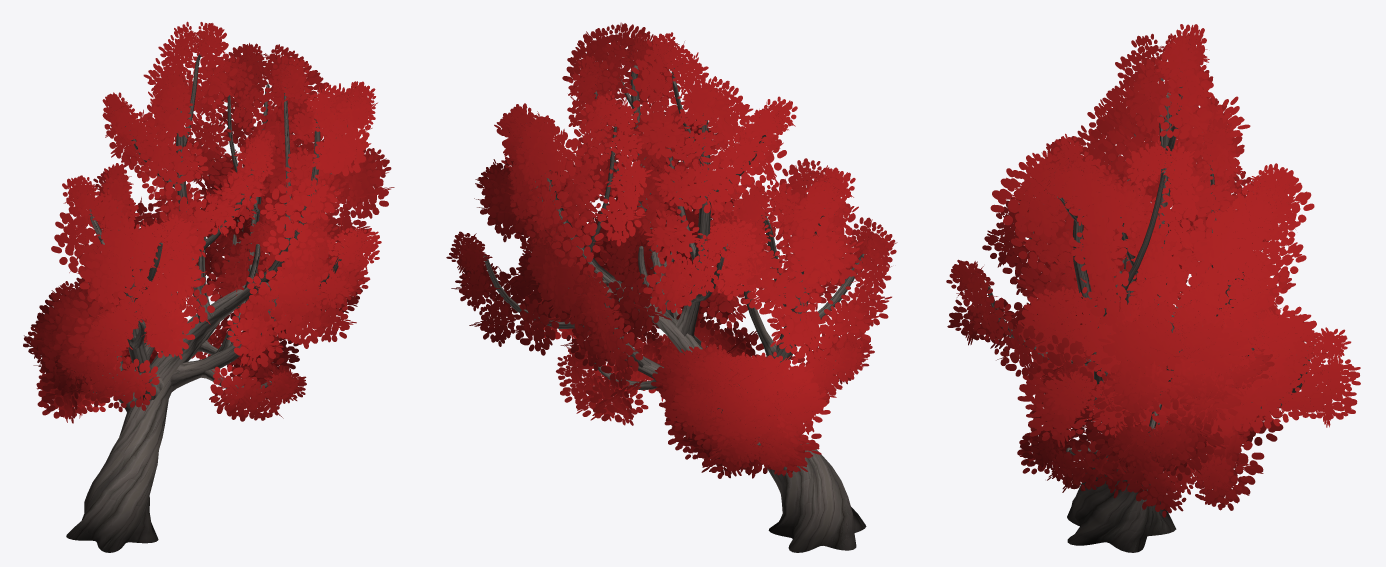
The model's file is twistedtree-1.glb.
The picture shows the model from 3 angles, left to right: view 1: azimuth 30°, elevation 25°; view 2: azimuth 150°, elevation 25°; view 3: azimuth 270°, elevation 25°; orthographic projection. The views are drawn at different scales.
Parts seen in each view (by area): view 1: TwistedTree_1; view 2: TwistedTree_1; view 3: TwistedTree_1.
Boxes of the visible parts, bbox=[...] form: TwistedTree_1: bbox=[23, 21, 394, 552]; TwistedTree_1: bbox=[446, 22, 897, 552]; TwistedTree_1: bbox=[946, 24, 1360, 552].
Size of the model in its own units: 13.52 by 16.73 by 11.55.
2 materials, 2 textured.
